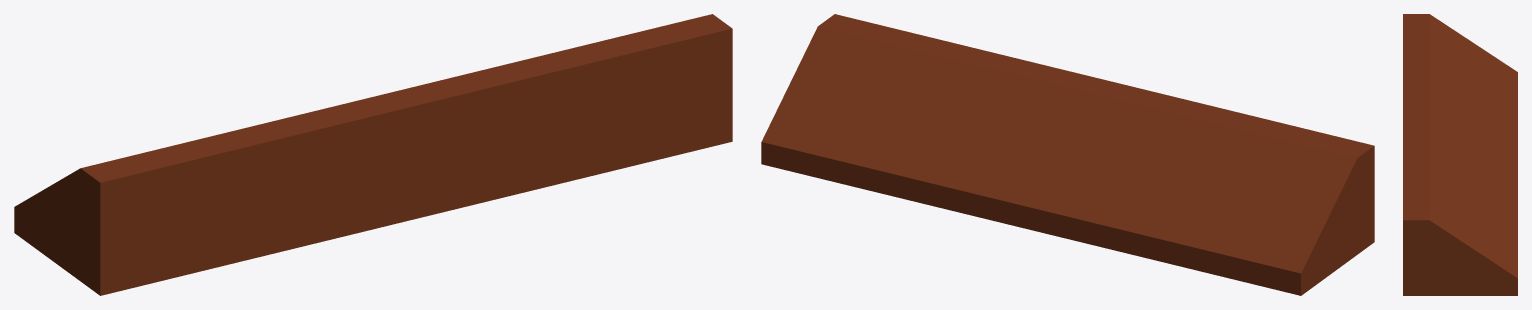
The model's file is grada.obj.
The picture shows the model from 3 angles, left to right: view 1: azimuth 30°, elevation 25°; view 2: azimuth 150°, elevation 25°; view 3: azimuth 270°, elevation 25°; orthographic projection. The views are drawn at different scales.
Visible parts, largest first — view 1: Cube; view 2: Cube; view 3: Cube.
Part boxes in pixels (left/top/right/bottom): Cube: left=14, top=14, right=732, bottom=295; Cube: left=761, top=14, right=1374, bottom=295; Cube: left=1403, top=14, right=1517, bottom=295.
Bounding box in the file's own units: 14.54 × 2.49 × 3.42.
